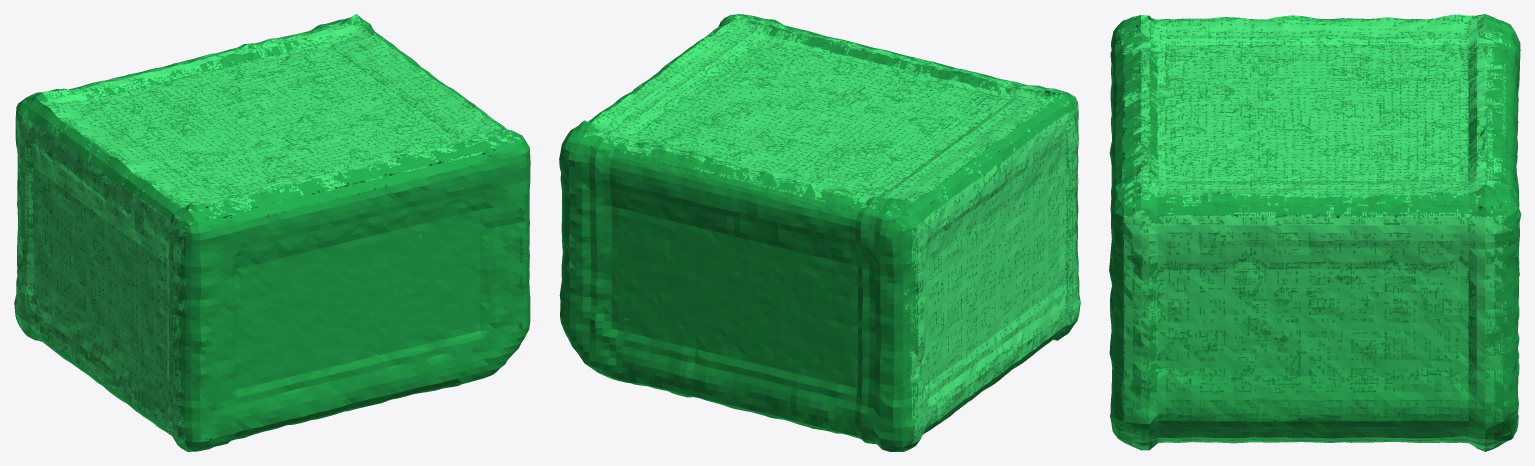
3 renders of one model, left to right at view 1: azimuth 30°, elevation 25°; view 2: azimuth 150°, elevation 25°; view 3: azimuth 270°, elevation 25°, orthographic. The views are drawn at different scales.
Bounding box in the file's own units: 0.0833 × 0.056 × 0.0735.
Materials: 1 (1 with a texture image).
